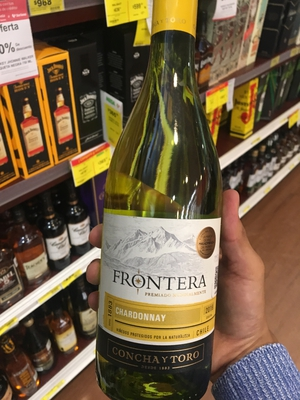frontera chardonnay: (81, 12, 242, 399)
